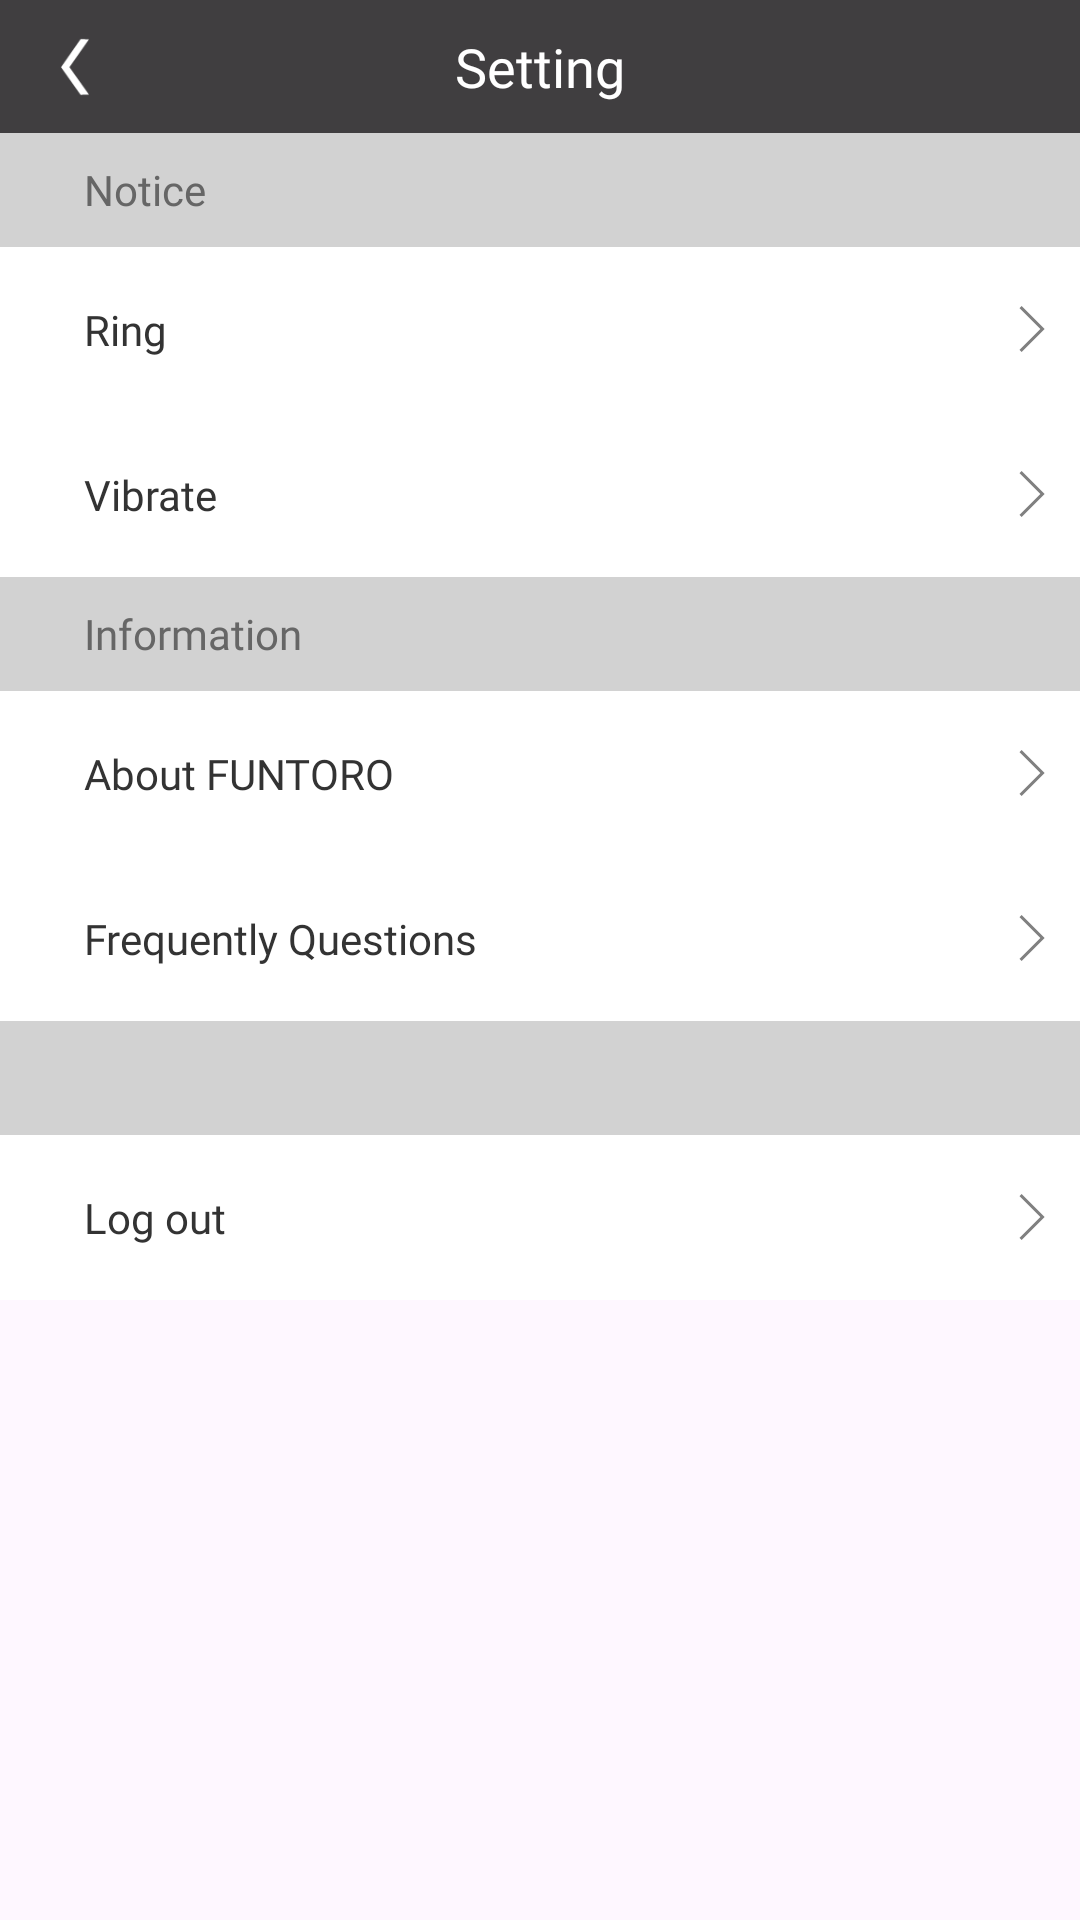

Icon click points for this 1080*1920 phone screenshot, format [x,y]:
guest back: [75,67]
guest list next: [1032,329], [1032,494], [1032,773], [1032,938], [1032,1217]
